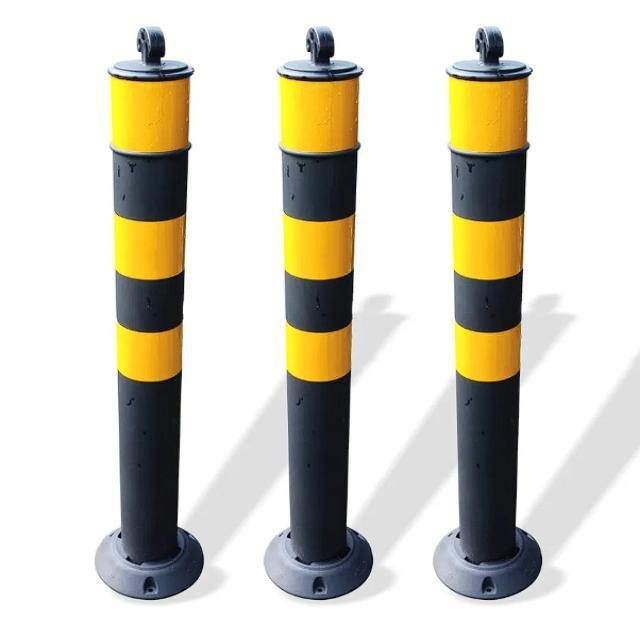obstacle: (104, 21, 194, 562), (274, 23, 364, 564), (443, 25, 528, 548)
